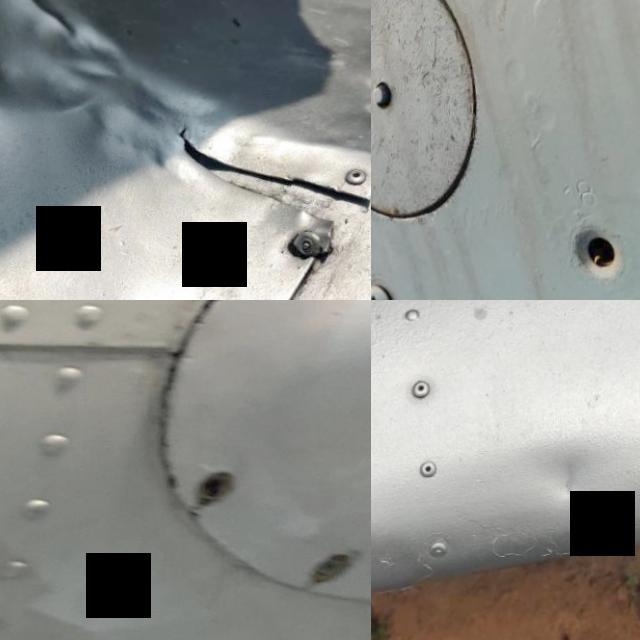Crack: (160, 111, 371, 254), (127, 300, 262, 470)
Dent: (0, 0, 238, 155), (516, 419, 630, 528)
Missing_Fastener: (557, 204, 640, 300), (200, 469, 246, 508)
